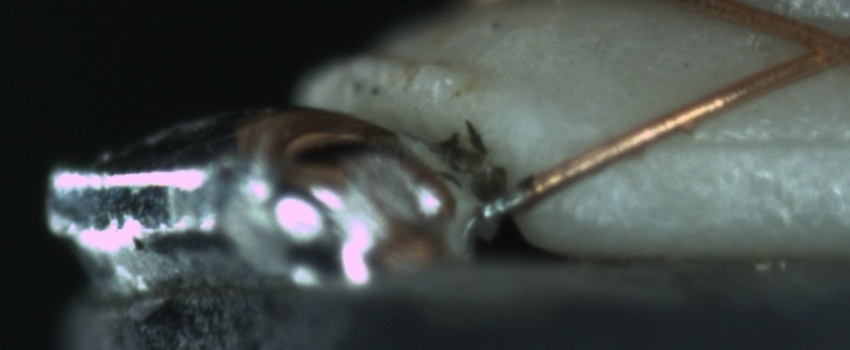CL: (777, 14, 847, 77)
DL: (625, 107, 849, 177)
TS: (479, 186, 528, 219)
